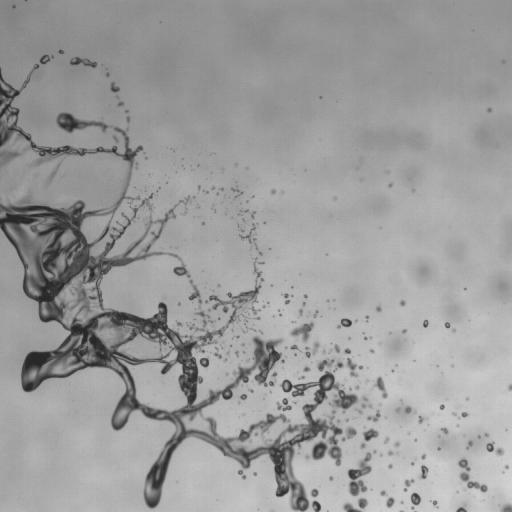droplet: (360, 425, 378, 449), (371, 376, 388, 398), (486, 440, 504, 456), (410, 492, 421, 511), (366, 409, 380, 423), (336, 318, 352, 329), (39, 54, 53, 64), (64, 48, 75, 59), (3, 139, 14, 150), (62, 153, 73, 164), (48, 155, 59, 166), (33, 194, 44, 205), (9, 195, 20, 206), (60, 199, 71, 210), (253, 228, 264, 239), (290, 295, 301, 306), (242, 332, 253, 343), (320, 338, 331, 349), (45, 340, 56, 351), (190, 348, 201, 359), (312, 351, 323, 362), (271, 361, 282, 372), (310, 369, 321, 380), (333, 369, 344, 380), (115, 383, 126, 394), (274, 388, 285, 399), (195, 389, 206, 400), (303, 390, 314, 401), (130, 408, 141, 419), (165, 422, 176, 433), (216, 426, 227, 437), (183, 435, 194, 446), (302, 439, 313, 450), (154, 441, 165, 452), (260, 453, 271, 464), (290, 456, 301, 467), (263, 458, 274, 469), (292, 469, 303, 480), (392, 489, 403, 500), (498, 502, 511, 511), (404, 405, 416, 414), (110, 81, 119, 92), (455, 503, 467, 511), (387, 449, 399, 456), (310, 488, 319, 497), (10, 98, 19, 107), (72, 111, 81, 120), (71, 140, 80, 149), (29, 150, 38, 159), (54, 153, 63, 162), (133, 153, 142, 162), (199, 290, 208, 299), (267, 304, 276, 313), (368, 309, 377, 318), (253, 320, 262, 329), (260, 333, 269, 342), (286, 335, 295, 344), (247, 342, 256, 351), (36, 343, 45, 352), (328, 350, 337, 359), (338, 352, 347, 361), (16, 354, 25, 363), (208, 355, 217, 364), (340, 365, 349, 374), (196, 366, 205, 375), (225, 374, 234, 383), (32, 386, 41, 395), (231, 386, 240, 395), (349, 402, 358, 411), (201, 406, 210, 415), (365, 420, 374, 429), (338, 421, 347, 430), (354, 432, 363, 441), (379, 443, 388, 452), (498, 454, 507, 463), (167, 458, 176, 467), (166, 461, 175, 470), (165, 465, 174, 474), (164, 469, 173, 478), (359, 473, 368, 482), (160, 481, 169, 490), (402, 492, 411, 501), (418, 415, 428, 423), (429, 500, 438, 508), (283, 505, 294, 511), (413, 505, 424, 511), (424, 505, 435, 511), (303, 365, 311, 372), (440, 427, 448, 434), (393, 440, 400, 448), (13, 82, 20, 89), (66, 107, 73, 114), (88, 124, 95, 131), (93, 125, 100, 132), (22, 126, 29, 133), (105, 126, 112, 133), (72, 127, 79, 134), (60, 128, 67, 135), (10, 130, 17, 137), (116, 133, 123, 140), (35, 139, 42, 146), (50, 142, 57, 149), (129, 143, 136, 150), (117, 146, 124, 153), (11, 156, 18, 163), (121, 159, 128, 166), (57, 166, 64, 173), (128, 178, 135, 185), (106, 200, 113, 207), (243, 212, 250, 219), (253, 215, 260, 222), (246, 217, 253, 224), (243, 224, 250, 231), (256, 264, 263, 271), (255, 292, 262, 299), (200, 303, 207, 310), (49, 319, 56, 326), (295, 320, 302, 327), (223, 328, 230, 335), (308, 329, 315, 336), (306, 339, 313, 346), (232, 342, 239, 349), (324, 343, 331, 350), (273, 344, 280, 351), (242, 361, 249, 368), (85, 365, 92, 372), (92, 365, 99, 372), (252, 367, 259, 374), (247, 373, 254, 380), (265, 374, 272, 381), (275, 376, 282, 383), (290, 377, 297, 384), (41, 378, 48, 385), (382, 379, 389, 386), (28, 389, 35, 396), (284, 391, 291, 398), (192, 398, 199, 405), (272, 409, 279, 416), (283, 409, 290, 416), (212, 414, 219, 421), (251, 416, 258, 423), (147, 417, 154, 424), (301, 417, 308, 424), (348, 420, 355, 427), (123, 422, 130, 429), (334, 433, 341, 440), (471, 437, 478, 444), (336, 440, 343, 447), (386, 441, 393, 448), (214, 448, 221, 455), (171, 449, 178, 456), (322, 451, 329, 458), (339, 455, 346, 462), (386, 455, 393, 462), (308, 457, 315, 464), (416, 458, 423, 465), (422, 458, 429, 465), (234, 462, 241, 469), (351, 462, 358, 469), (143, 465, 150, 472), (242, 467, 249, 474), (468, 474, 475, 481), (344, 476, 351, 483), (270, 482, 277, 489), (343, 484, 350, 491), (407, 486, 414, 493), (473, 487, 480, 494), (386, 490, 393, 497), (357, 491, 364, 498), (283, 492, 290, 499), (306, 495, 313, 502), (380, 495, 387, 502), (158, 496, 165, 503), (139, 499, 146, 506), (157, 499, 164, 506), (392, 500, 399, 507), (351, 501, 358, 508), (343, 348, 351, 354), (506, 496, 511, 505), (144, 506, 153, 511), (150, 506, 159, 511), (305, 506, 314, 511), (361, 506, 370, 511), (387, 506, 396, 511), (428, 506, 437, 511), (492, 506, 501, 511), (399, 299, 405, 306), (423, 319, 428, 327), (384, 436, 389, 444), (270, 188, 276, 194), (387, 463, 393, 469), (117, 101, 124, 106), (202, 189, 209, 194), (376, 304, 381, 311), (232, 335, 239, 340), (234, 350, 239, 357), (421, 453, 426, 460), (507, 383, 511, 391), (368, 348, 374, 353), (439, 404, 444, 410), (504, 464, 510, 469), (58, 49, 63, 54), (486, 107, 491, 112), (388, 182, 393, 187), (211, 185, 216, 190), (365, 379, 370, 384), (395, 407, 400, 412), (484, 432, 489, 437), (328, 476, 333, 481), (79, 54, 84, 59), (89, 57, 94, 62), (77, 62, 82, 67), (28, 63, 33, 68), (38, 63, 43, 68), (72, 63, 77, 68), (95, 63, 100, 68), (86, 65, 91, 70), (1, 74, 6, 79), (21, 75, 26, 80), (113, 82, 118, 87), (105, 84, 110, 89), (115, 90, 120, 95), (111, 91, 116, 96), (13, 95, 18, 100), (118, 96, 123, 101), (114, 98, 119, 103), (119, 105, 124, 110), (482, 105, 487, 110), (17, 112, 22, 117), (53, 112, 58, 117), (94, 117, 99, 122), (103, 119, 108, 124), (15, 121, 20, 126), (120, 125, 125, 130), (125, 131, 130, 136), (30, 136, 35, 141), (92, 143, 97, 148), (107, 144, 112, 149), (142, 145, 147, 150), (97, 151, 102, 156), (130, 167, 135, 172), (159, 181, 164, 186), (214, 183, 219, 188), (205, 185, 210, 190), (213, 187, 218, 192), (275, 187, 280, 192), (265, 188, 270, 193), (210, 189, 215, 194), (124, 191, 129, 196), (139, 194, 144, 199), (80, 196, 85, 201), (2, 201, 7, 206), (168, 203, 173, 208), (164, 206, 169, 211), (172, 208, 177, 213), (159, 214, 164, 219), (151, 215, 156, 220), (236, 215, 241, 220), (166, 218, 171, 223), (237, 218, 242, 223), (258, 222, 263, 227), (241, 231, 246, 236), (159, 232, 164, 237), (4, 238, 9, 243), (243, 238, 248, 243), (9, 244, 14, 249), (148, 247, 153, 252), (171, 248, 176, 253), (253, 251, 258, 256), (257, 256, 262, 261), (15, 257, 20, 262), (18, 263, 23, 268), (184, 264, 189, 269), (18, 278, 23, 283), (260, 281, 265, 286), (196, 285, 201, 290), (18, 287, 23, 292), (242, 287, 247, 292), (257, 287, 262, 292), (286, 289, 291, 294), (207, 290, 212, 295), (212, 290, 217, 295), (20, 291, 25, 296), (231, 291, 236, 296), (224, 295, 229, 300), (395, 298, 400, 303), (210, 299, 215, 304), (33, 300, 38, 305), (253, 303, 258, 308), (297, 303, 302, 308), (403, 303, 408, 308), (371, 304, 376, 309), (399, 305, 404, 310), (302, 306, 307, 311), (301, 310, 306, 315), (256, 311, 261, 316), (34, 313, 39, 318), (349, 316, 354, 321), (311, 317, 316, 322), (304, 318, 309, 323), (335, 319, 340, 324), (418, 319, 423, 324), (246, 321, 251, 326), (350, 321, 355, 326), (228, 322, 233, 327), (449, 322, 454, 327), (340, 325, 345, 330), (446, 327, 451, 332), (65, 329, 70, 334), (364, 331, 369, 336), (329, 343, 334, 348), (348, 345, 353, 350), (237, 346, 242, 351), (317, 346, 322, 351), (339, 347, 344, 352), (229, 351, 234, 356), (238, 351, 243, 356), (201, 352, 206, 357), (300, 352, 305, 357), (344, 352, 349, 357), (350, 358, 355, 363), (299, 364, 304, 369), (353, 367, 358, 372), (78, 368, 83, 373), (75, 369, 80, 374), (268, 369, 273, 374), (319, 370, 324, 375), (113, 372, 118, 377), (69, 373, 74, 378), (62, 376, 67, 381), (372, 376, 377, 381), (299, 378, 304, 383), (17, 384, 22, 389), (314, 384, 319, 389), (503, 384, 508, 389), (219, 385, 224, 390), (230, 387, 235, 392), (350, 389, 355, 394), (377, 389, 382, 394), (245, 390, 250, 395), (295, 394, 300, 399), (380, 397, 385, 402), (225, 398, 230, 403), (395, 401, 400, 406), (407, 401, 412, 406), (372, 403, 377, 408), (410, 404, 415, 409), (400, 405, 405, 410), (337, 406, 342, 411), (461, 407, 466, 412), (278, 408, 283, 413), (416, 410, 421, 415), (456, 410, 461, 415), (370, 411, 375, 416), (261, 415, 266, 420), (377, 416, 382, 421), (421, 419, 426, 424), (107, 424, 112, 429), (243, 426, 248, 431), (446, 426, 451, 431), (439, 430, 444, 435), (234, 431, 239, 436), (341, 431, 346, 436), (479, 431, 484, 436), (369, 436, 374, 441), (492, 443, 497, 448), (391, 446, 396, 451), (491, 449, 496, 454), (382, 450, 387, 455), (360, 453, 365, 458), (416, 453, 421, 458), (497, 454, 502, 459), (330, 457, 335, 462), (249, 459, 254, 464), (466, 461, 471, 466), (370, 466, 375, 471), (460, 467, 465, 472), (416, 469, 421, 474), (425, 471, 430, 476), (332, 474, 337, 479), (420, 478, 425, 483), (462, 480, 467, 485), (478, 480, 483, 485), (400, 482, 405, 487), (377, 486, 382, 491), (470, 486, 475, 491), (486, 486, 491, 491), (417, 491, 422, 496), (314, 496, 319, 501), (318, 500, 323, 505), (399, 504, 404, 509), (413, 504, 418, 509), (453, 504, 458, 509), (126, 116, 130, 122), (401, 329, 407, 333), (0, 145, 3, 152), (279, 190, 284, 194), (354, 318, 358, 323), (245, 358, 250, 362), (373, 449, 377, 454), (252, 472, 257, 476), (125, 109, 129, 113), (333, 196, 337, 200), (196, 204, 200, 208), (201, 221, 205, 225), (303, 294, 307, 298), (177, 302, 181, 306), (242, 350, 246, 354), (400, 500, 404, 504), (106, 72, 109, 77), (218, 187, 223, 190), (391, 367, 394, 372), (352, 416, 357, 419), (508, 390, 511, 395), (508, 463, 511, 468), (289, 508, 294, 511), (318, 508, 323, 511), (116, 95, 119, 99), (144, 156, 148, 159), (411, 189, 415, 192), (217, 283, 220, 287), (326, 299, 329, 303), (230, 327, 233, 331), (348, 336, 351, 340), (284, 346, 288, 349), (450, 364, 454, 367), (225, 372, 228, 376), (465, 397, 469, 400), (378, 402, 381, 406), (456, 423, 459, 427), (477, 434, 480, 438), (414, 438, 417, 442), (437, 447, 441, 450), (379, 453, 382, 457), (0, 228, 2, 233), (502, 60, 505, 63), (234, 163, 237, 166), (386, 170, 389, 173), (216, 192, 219, 195), (263, 221, 266, 224), (270, 284, 273, 287), (378, 342, 381, 345), (284, 355, 287, 358), (242, 413, 245, 416), (384, 416, 387, 419), (505, 428, 508, 431), (407, 431, 410, 434), (437, 434, 440, 437), (9, 3, 12, 6), (15, 4, 18, 7), (12, 7, 15, 10), (59, 46, 62, 49), (56, 47, 59, 50), (63, 49, 66, 52), (44, 51, 47, 54), (58, 53, 61, 56), (38, 55, 41, 58), (37, 61, 40, 64), (45, 61, 48, 64), (34, 68, 37, 71), (25, 71, 28, 74), (103, 71, 106, 74), (108, 71, 111, 74), (29, 77, 32, 80), (25, 83, 28, 86), (318, 92, 321, 95), (319, 98, 322, 101), (487, 104, 490, 107), (491, 108, 494, 111), (488, 111, 491, 114), (125, 112, 128, 115), (123, 117, 126, 120), (129, 117, 132, 120), (169, 149, 172, 152), (144, 153, 147, 156), (144, 159, 147, 162), (183, 164, 186, 167), (55, 172, 58, 175), (167, 181, 170, 184), (385, 182, 388, 185), (218, 184, 221, 187), (391, 184, 394, 187), (160, 185, 163, 188), (232, 185, 235, 188), (155, 186, 158, 189), (194, 186, 197, 189), (199, 187, 202, 190), (223, 187, 226, 190), (239, 188, 242, 191), (152, 189, 155, 192), (157, 189, 160, 192), (218, 189, 221, 192), (229, 189, 232, 192), (234, 191, 237, 194), (147, 192, 150, 195), (205, 193, 208, 196), (248, 193, 251, 196), (151, 194, 154, 197), (184, 194, 187, 197), (189, 194, 192, 197), (239, 194, 242, 197), (254, 194, 257, 197), (194, 196, 197, 199), (235, 196, 238, 199), (251, 197, 254, 200), (148, 198, 151, 201), (174, 200, 177, 203), (179, 201, 182, 204), (186, 201, 189, 204), (242, 207, 245, 210), (215, 208, 218, 211), (248, 208, 251, 211), (186, 209, 189, 212), (210, 209, 213, 212), (236, 210, 239, 213), (253, 213, 256, 216), (175, 215, 178, 218), (200, 218, 203, 221), (204, 221, 207, 224), (198, 222, 201, 225), (234, 223, 237, 226), (202, 224, 205, 227), (254, 228, 257, 231), (253, 234, 256, 237), (237, 236, 240, 239), (156, 237, 159, 240), (267, 244, 270, 247), (252, 245, 255, 248), (258, 248, 261, 251), (268, 249, 271, 252), (177, 253, 180, 256), (325, 255, 328, 258), (251, 258, 254, 261), (251, 267, 254, 270), (217, 280, 220, 283), (192, 281, 195, 284), (271, 281, 274, 284), (272, 284, 275, 287), (462, 284, 465, 287), (269, 286, 272, 289), (292, 286, 295, 289), (466, 286, 469, 289), (460, 287, 463, 290), (226, 289, 229, 292), (463, 289, 466, 292), (303, 291, 306, 294), (306, 293, 309, 296), (302, 297, 305, 300), (266, 298, 269, 301), (201, 299, 204, 302), (329, 299, 332, 302), (263, 301, 266, 304), (324, 301, 327, 304), (268, 302, 271, 305), (304, 302, 307, 305), (286, 303, 289, 306), (380, 305, 383, 308), (317, 308, 320, 311), (248, 309, 251, 312), (279, 310, 282, 313), (312, 310, 315, 313), (276, 311, 279, 314), (377, 311, 380, 314), (296, 312, 299, 315), (364, 312, 367, 315), (316, 313, 319, 316), (279, 315, 282, 318), (424, 316, 427, 319), (363, 317, 366, 320), (367, 317, 370, 320), (247, 318, 250, 321), (256, 319, 259, 322), (443, 319, 446, 322), (365, 322, 368, 325), (427, 323, 430, 326), (59, 324, 62, 327), (241, 324, 244, 327), (420, 324, 423, 327), (252, 325, 255, 328), (442, 325, 445, 328), (401, 326, 404, 329), (243, 327, 246, 330), (255, 327, 258, 330), (455, 327, 458, 330), (404, 331, 407, 334), (234, 332, 237, 335), (361, 334, 364, 337), (233, 336, 236, 339), (238, 336, 241, 339), (366, 337, 369, 340), (349, 338, 352, 341), (363, 339, 366, 342), (287, 345, 290, 348), (224, 347, 227, 350), (373, 348, 376, 351), (368, 351, 371, 354), (309, 354, 312, 357), (305, 356, 308, 359), (412, 356, 415, 359), (362, 365, 365, 368), (393, 367, 396, 370), (388, 370, 391, 373), (392, 371, 395, 374), (279, 386, 282, 389), (364, 394, 367, 397), (264, 395, 267, 398), (239, 398, 242, 401), (437, 403, 440, 406), (443, 403, 446, 406), (274, 404, 277, 407), (436, 406, 439, 409), (443, 406, 446, 409), (378, 410, 381, 413), (409, 411, 412, 414), (420, 413, 423, 416), (453, 415, 456, 418), (441, 424, 444, 427), (501, 427, 504, 430), (485, 430, 488, 433), (411, 436, 414, 439), (416, 437, 419, 440), (413, 441, 416, 444), (438, 444, 441, 447), (434, 445, 437, 448), (438, 449, 441, 452), (369, 450, 372, 453), (376, 451, 379, 454), (457, 457, 460, 460), (410, 458, 413, 461), (407, 461, 410, 464), (385, 462, 388, 465), (391, 463, 394, 466), (409, 464, 412, 467), (425, 464, 428, 467), (388, 468, 391, 471), (503, 468, 506, 471), (234, 470, 237, 473), (256, 472, 259, 475), (238, 474, 241, 477), (326, 475, 329, 478), (243, 478, 246, 481), (431, 497, 434, 500), (418, 501, 421, 504), (429, 501, 432, 504), (436, 502, 439, 505), (294, 352, 296, 356), (394, 364, 398, 366), (12, 5, 15, 7), (319, 96, 322, 98), (197, 164, 199, 167), (245, 167, 248, 169), (356, 167, 359, 169), (304, 168, 306, 171), (175, 246, 178, 248), (268, 248, 271, 250), (464, 287, 466, 290), (332, 299, 335, 301), (272, 314, 274, 317), (436, 365, 439, 367), (366, 367, 369, 369), (269, 390, 271, 393), (456, 490, 458, 493), (410, 509, 413, 511), (325, 253, 327, 255), (299, 273, 301, 275), (291, 286, 293, 288), (320, 315, 322, 317), (389, 332, 391, 334), (330, 342, 332, 344), (502, 471, 504, 473), (370, 488, 372, 490), (257, 508, 259, 510), (413, 360, 415, 361), (427, 424, 429, 425), (327, 510, 329, 511), (202, 270, 203, 271)
ligament: (456, 457, 487, 492), (347, 452, 371, 497), (236, 217, 262, 255), (342, 497, 368, 511), (69, 57, 97, 68), (380, 490, 395, 508), (237, 209, 256, 219), (418, 463, 428, 479), (403, 478, 414, 491), (297, 302, 305, 317), (451, 412, 468, 419), (444, 322, 455, 332), (245, 195, 254, 203), (465, 440, 473, 449), (354, 379, 360, 390), (262, 301, 269, 309), (410, 456, 416, 465), (112, 135, 118, 143), (211, 203, 215, 213), (365, 315, 369, 322), (197, 185, 200, 193), (459, 433, 465, 437), (399, 399, 403, 404), (290, 320, 296, 323), (263, 393, 266, 399), (144, 186, 147, 191), (165, 181, 167, 184), (398, 510, 404, 511), (269, 510, 274, 511), (24, 0, 27, 1), (134, 186, 135, 188)
